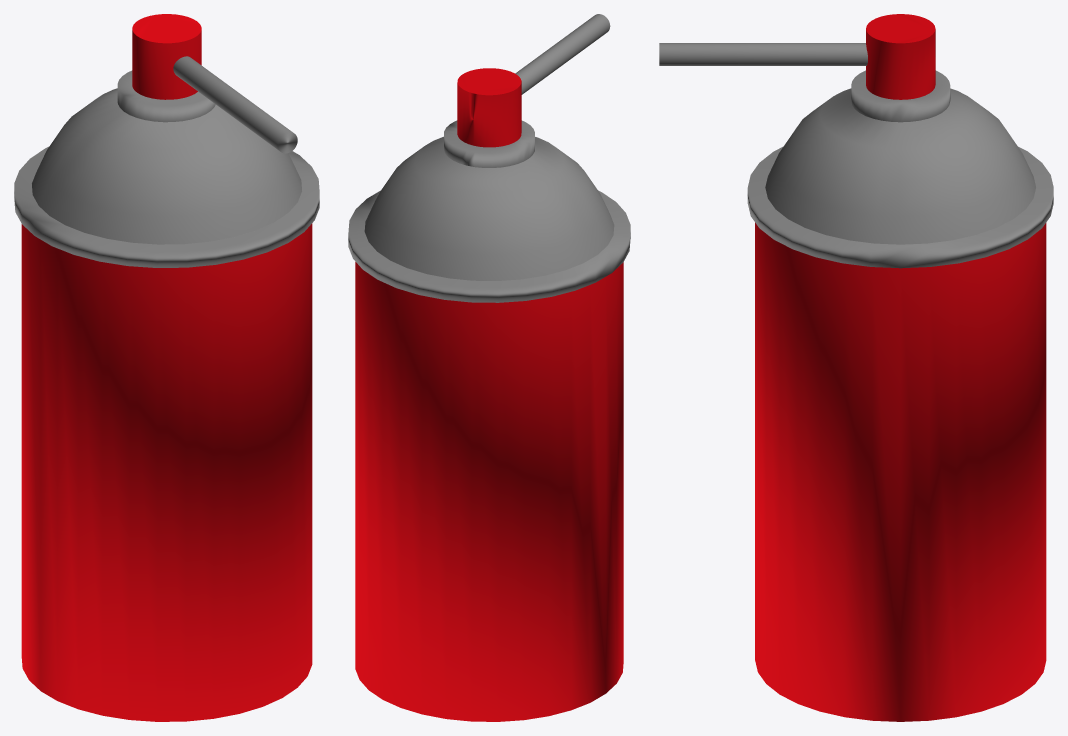
The model's file is spraycan.fbx.
The picture shows the model from 3 angles, left to right: view 1: azimuth 30°, elevation 25°; view 2: azimuth 150°, elevation 25°; view 3: azimuth 270°, elevation 25°; orthographic projection. The views are drawn at different scales.
Parts seen in each view (by area): view 1: Cylinder.001; view 2: Cylinder.001; view 3: Cylinder.001.
Boxes of the visible parts, x1,y1,x2,y2 form: Cylinder.001: [14, 14, 319, 721]; Cylinder.001: [348, 14, 630, 721]; Cylinder.001: [659, 14, 1053, 721].
Size of the model in its own units: 210 by 479 by 271.
